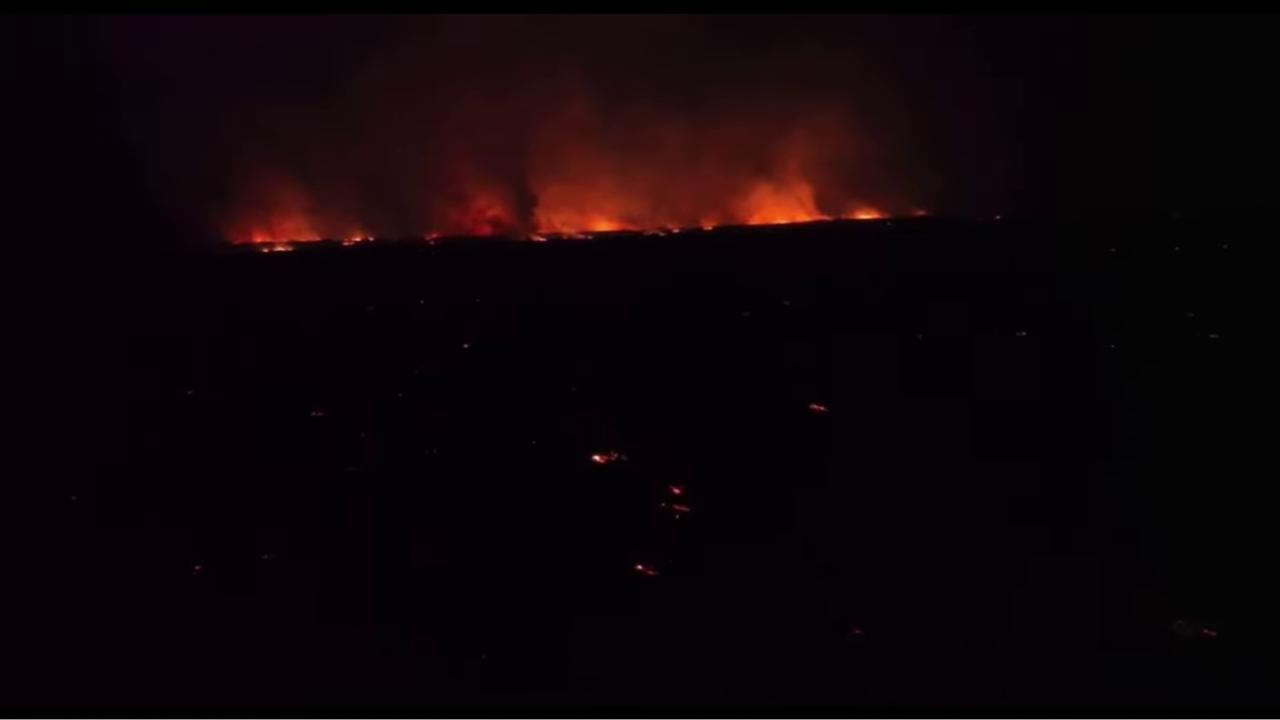fire: (249, 213, 326, 244), (745, 199, 812, 226), (591, 448, 626, 467), (842, 206, 885, 220), (341, 230, 375, 244), (260, 244, 295, 254), (633, 563, 656, 577), (808, 402, 828, 413), (595, 221, 614, 232), (671, 502, 689, 513), (671, 484, 685, 498), (529, 235, 548, 241), (701, 224, 715, 230), (671, 228, 682, 233)
smoke: (201, 27, 932, 246)
